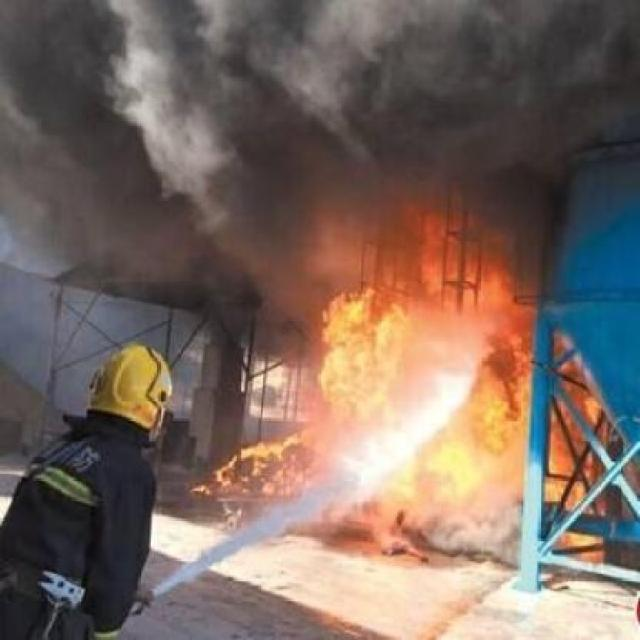Fire: (222, 284, 612, 558)
Smoke: (6, 2, 640, 294)
